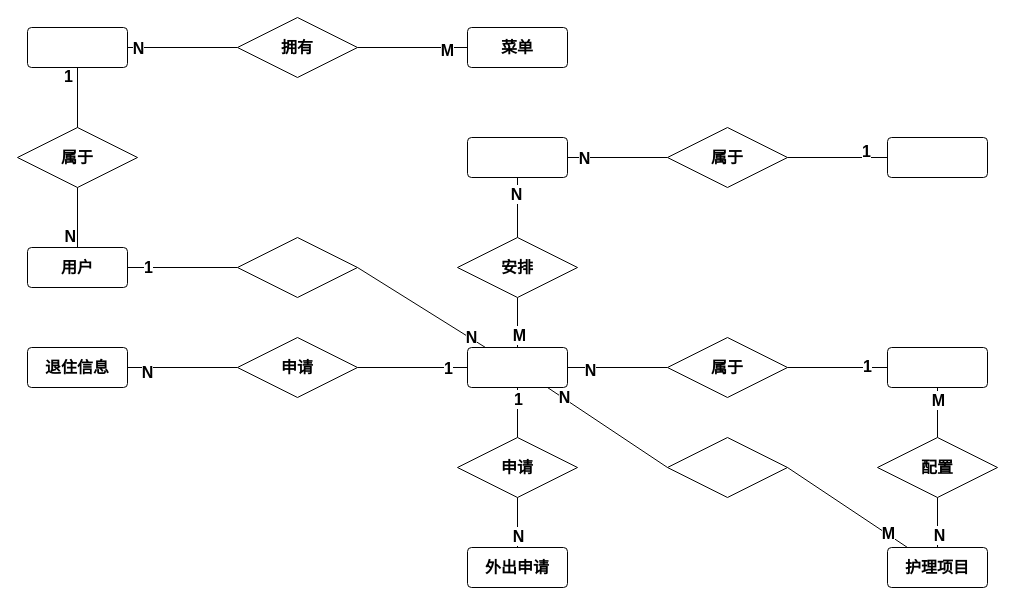
The diagram is 1015 pixels wide and 605 high, and some of its shapes have lost their labels. Each missing label, with the box of its shape:
关注: (236, 236, 358, 298)
客户: (466, 346, 568, 388)
床位: (466, 136, 568, 178)
房间: (886, 136, 988, 178)
护理: (666, 436, 788, 498)
护理级别: (886, 346, 988, 388)
角色: (26, 26, 128, 68)
